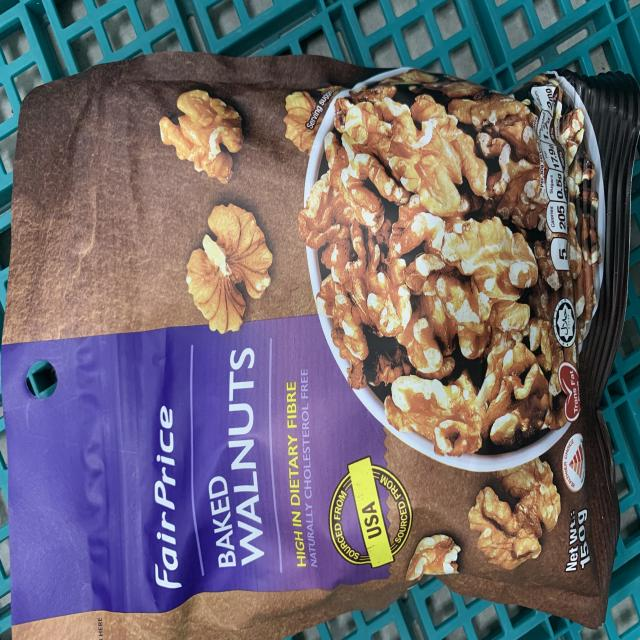object_name: (24, 78, 610, 609)
